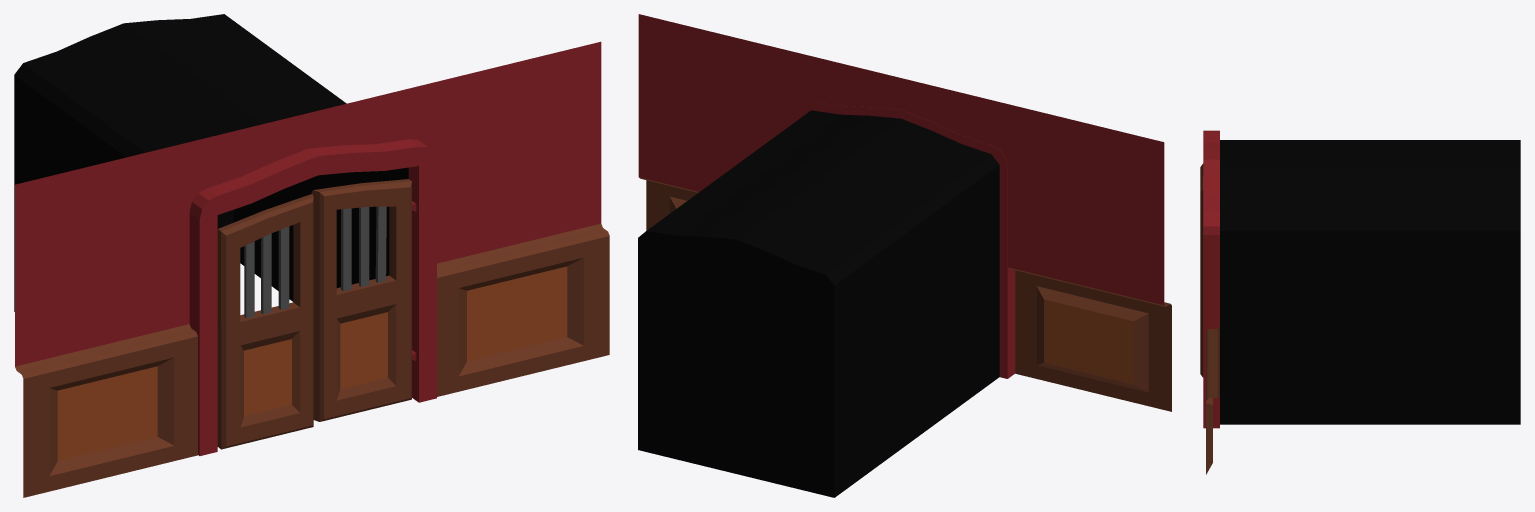
The model's file is BarDeur.fbx.
3 renders of one model, left to right at view 1: azimuth 30°, elevation 25°; view 2: azimuth 150°, elevation 25°; view 3: azimuth 270°, elevation 25°, orthographic. The views are drawn at different scales.
Parts seen in each view (by area): view 1: Plane.012, Plane.014, Plane.011; view 2: Plane.012; view 3: Plane.012, Plane.011.
Part boxes in pixels (x1,y1,x2,y2): Plane.012: (14, 14, 609, 497); Plane.014: (311, 179, 411, 421); Plane.011: (217, 193, 313, 449); Plane.012: (638, 14, 1171, 497); Plane.012: (1203, 130, 1520, 474); Plane.011: (1200, 163, 1203, 377).
Bounding box in the file's own units: 4 × 2 × 2.32.
